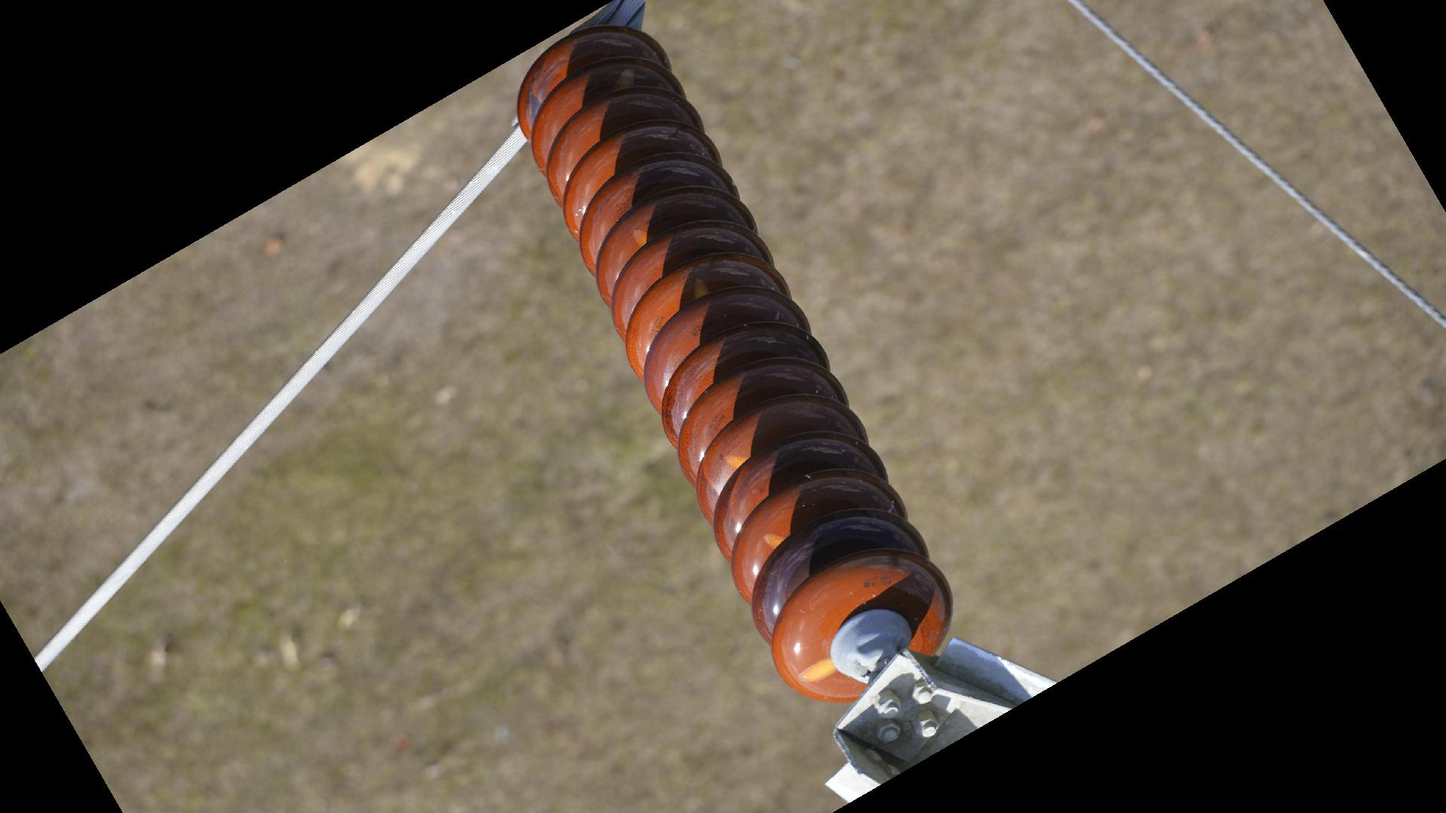insulator: (511, 21, 960, 708)
insulator_flashover: (795, 656, 837, 687)
